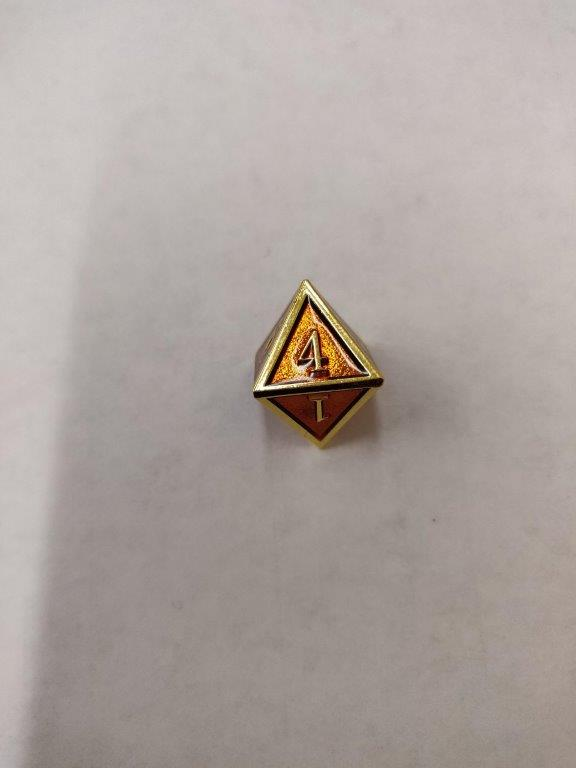d8-4: (253, 278, 383, 451)
